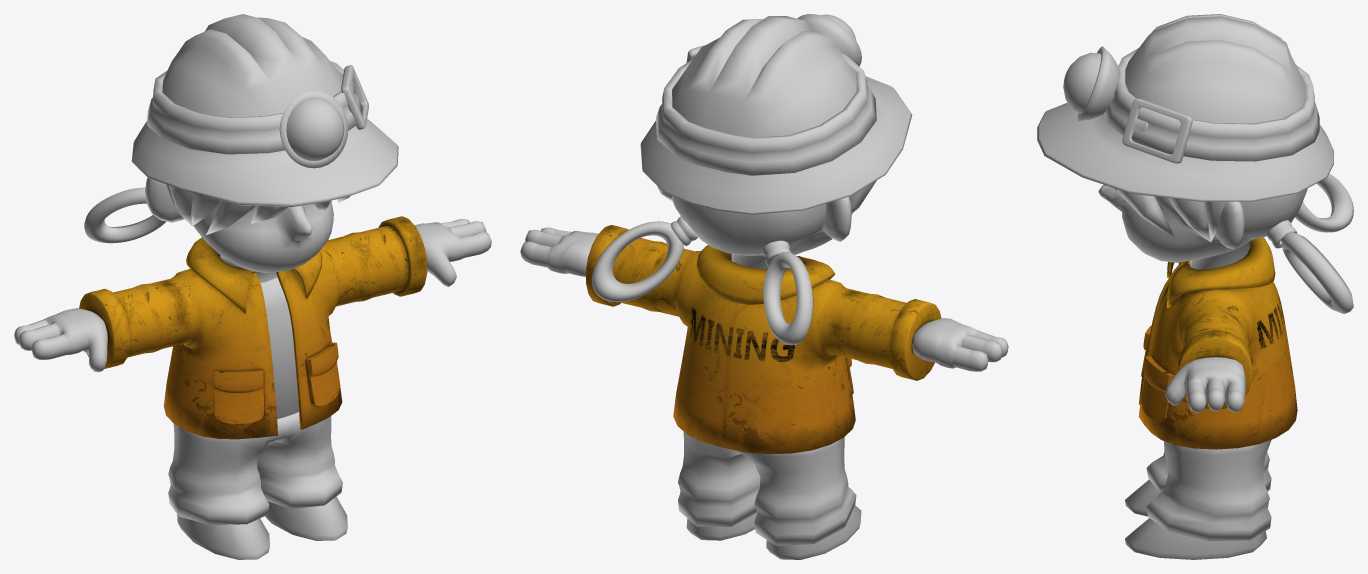
Rendered from Copper.low2.fbx.
3 views of the same model, side by side, from view 1: azimuth 30°, elevation 25°; view 2: azimuth 150°, elevation 25°; view 3: azimuth 270°, elevation 25° (orthographic). The views are drawn at different scales.
Parts seen in each view (by area): view 1: Cube.007, Cube.003, Cube.014, Cube.012, Cube.009, Cube.004, Circle, Cube.011, Sphere.001, Cube.016, Torus.001, Cube.005 (+1 smaller); view 2: Cube.007, Cube.003, Cube.014, Cube.004, Torus.001, Cube.009, Cube.015, Circle, Cube.012, Sphere.001, Cube; view 3: Cube.003, Cube.007, Cube.014, Cube.004, Cube.012, Torus.001, Circle, Cube.009, Sphere.001, Cube.015, Cube.005, Cube.011 (+4 smaller).
Boxes of the visible parts, x1,y1,x2,y2 form: Cube.007: [79, 216, 427, 439]; Cube.003: [131, 14, 398, 206]; Cube.014: [168, 412, 342, 524]; Cube.012: [145, 178, 333, 282]; Cube.009: [14, 219, 491, 372]; Cube.004: [147, 61, 362, 154]; Circle: [177, 496, 347, 559]; Cube.011: [214, 342, 340, 424]; Sphere.001: [279, 90, 348, 168]; Cube.016: [260, 277, 298, 418]; Torus.001: [84, 187, 165, 243]; Cube.005: [341, 65, 368, 129]; Cube.007: [586, 225, 941, 454]; Cube.003: [640, 16, 912, 214]; Cube.014: [678, 432, 856, 545]; Cube.004: [656, 53, 876, 175]; Torus.001: [592, 221, 813, 344]; Cube.009: [520, 227, 1008, 371]; Cube.015: [672, 196, 826, 255]; Circle: [686, 505, 861, 559]; Cube.012: [657, 186, 851, 269]; Sphere.001: [797, 14, 861, 66]; Cube: [671, 216, 791, 265]; Cube.003: [1037, 14, 1333, 201]; Cube.007: [1138, 237, 1297, 449]; Cube.014: [1146, 439, 1271, 541]; Cube.004: [1104, 48, 1319, 161]; Cube.012: [1098, 185, 1256, 269]; Torus.001: [1281, 173, 1353, 313]; Circle: [1125, 480, 1266, 559]; Cube.009: [1165, 357, 1245, 413]; Sphere.001: [1063, 46, 1119, 121]; Cube.015: [1240, 188, 1307, 238]; Cube.005: [1122, 98, 1192, 163]; Cube.011: [1141, 325, 1174, 421].
Bounding box in the file's own units: 474 × 482 × 274.
